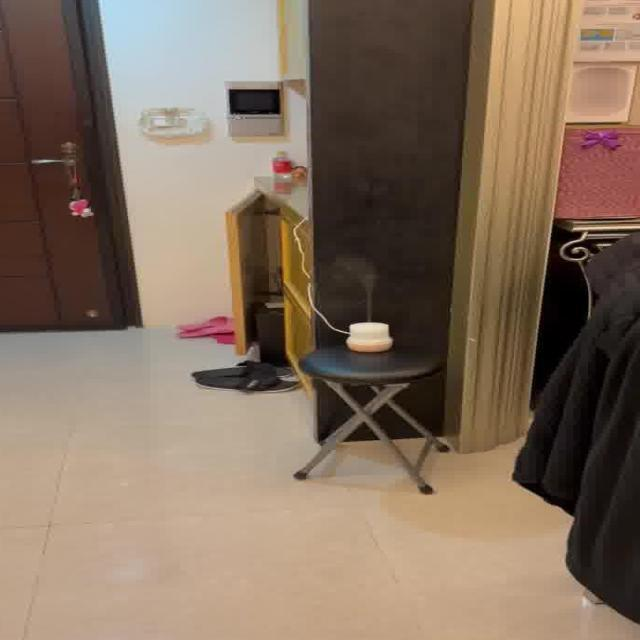fire: (332, 252, 386, 314)
